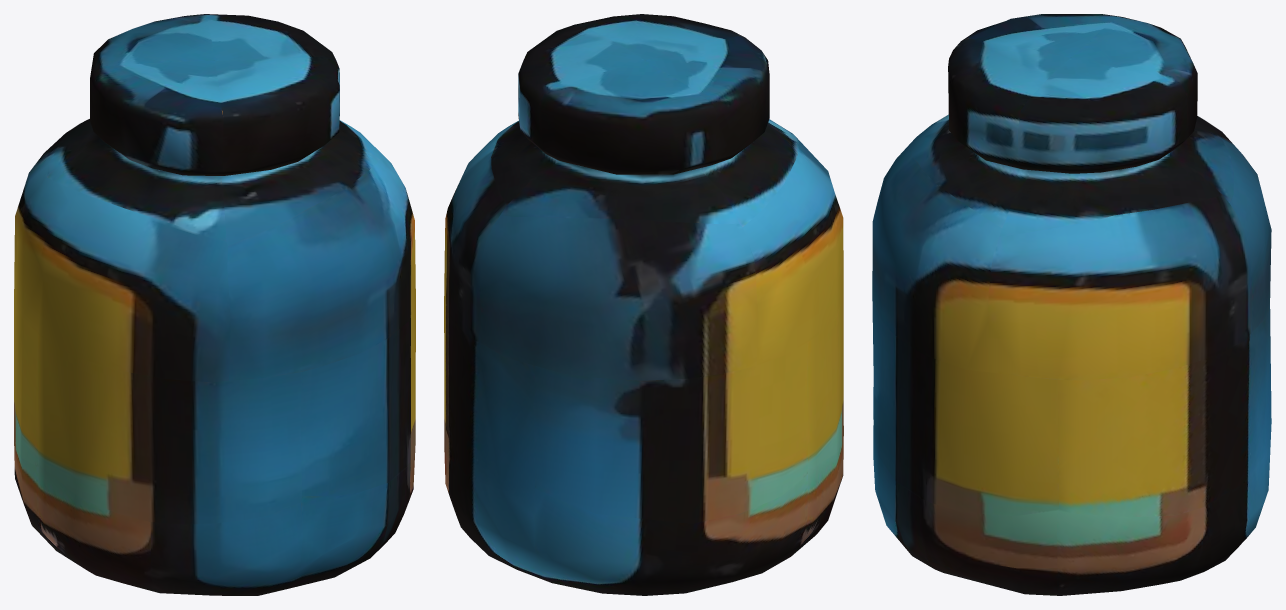
The model's file is protein-tub.glb.
The picture shows the model from 3 angles, left to right: view 1: azimuth 30°, elevation 25°; view 2: azimuth 150°, elevation 25°; view 3: azimuth 270°, elevation 25°; orthographic projection.
Visible parts, largest first — view 1: tripo_node_7b09656f-da1a-4c1e-a458-c3f2ed0f9151; view 2: tripo_node_7b09656f-da1a-4c1e-a458-c3f2ed0f9151; view 3: tripo_node_7b09656f-da1a-4c1e-a458-c3f2ed0f9151.
Part boxes in pixels (<box>): tripo_node_7b09656f-da1a-4c1e-a458-c3f2ed0f9151: <box>14,14,415,595</box>; tripo_node_7b09656f-da1a-4c1e-a458-c3f2ed0f9151: <box>444,14,843,595</box>; tripo_node_7b09656f-da1a-4c1e-a458-c3f2ed0f9151: <box>872,14,1271,595</box>.
Bounding box in the file's own units: 0.7594 × 0.9998 × 0.7597.
1 material, 1 textured.
